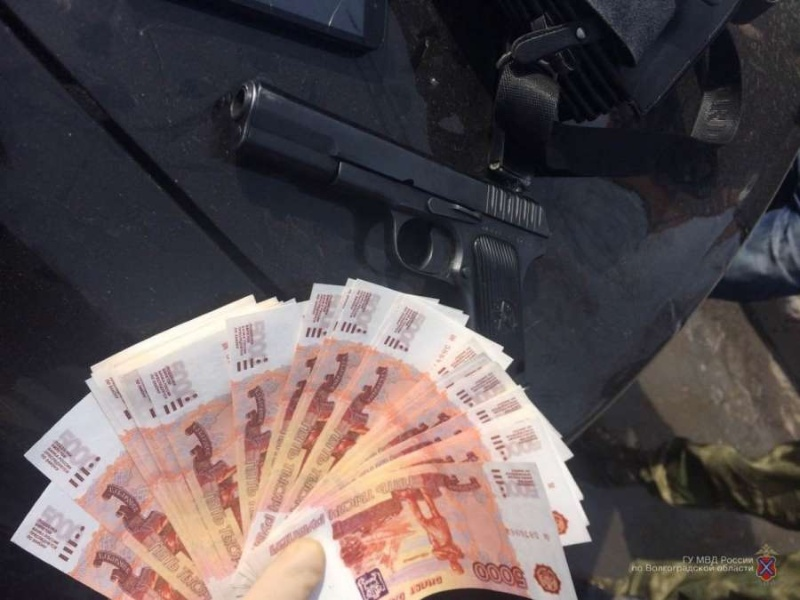cash: (11, 279, 594, 600)
weapon: (226, 79, 550, 388)
